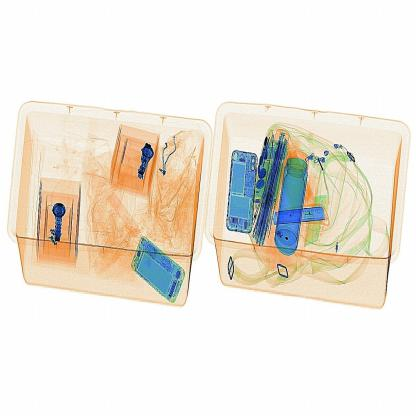pliers: (267, 195, 340, 243)
